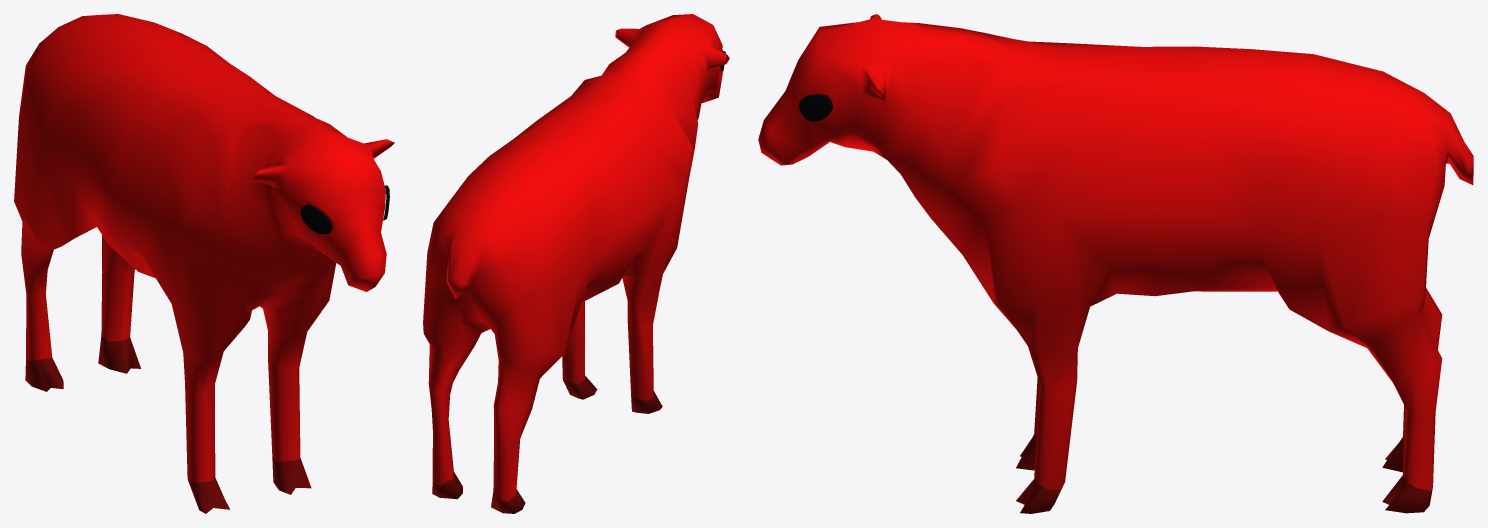
Rendered from Sheep.glb.
The picture shows the model from 3 angles, left to right: view 1: azimuth 30°, elevation 25°; view 2: azimuth 150°, elevation 25°; view 3: azimuth 270°, elevation 25°; orthographic projection. The views are drawn at different scales.
Parts seen in each view (by area): view 1: base_node_76; view 2: base_node_76; view 3: base_node_76.
Boxes of the visible parts, left/top/right/bottom form: base_node_76: left=14, top=14, right=394, bottom=513; base_node_76: left=423, top=14, right=729, bottom=513; base_node_76: left=758, top=14, right=1473, bottom=513.
Bounding box in the file's own units: 40.59 × 91.48 × 127.
